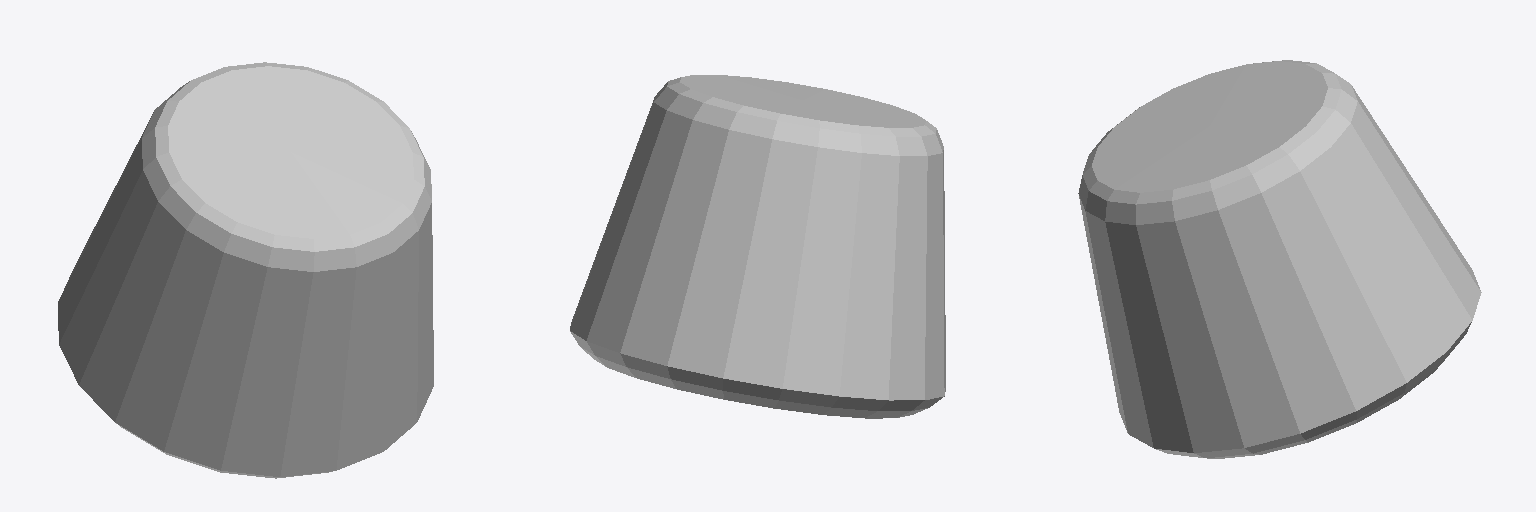
Rendered from Pudding.obj.
3 views of the same model, side by side, from view 1: azimuth 30°, elevation 25°; view 2: azimuth 150°, elevation 25°; view 3: azimuth 270°, elevation 25° (orthographic).
Size of the model in its own units: 4.85 by 4.66 by 5.07.